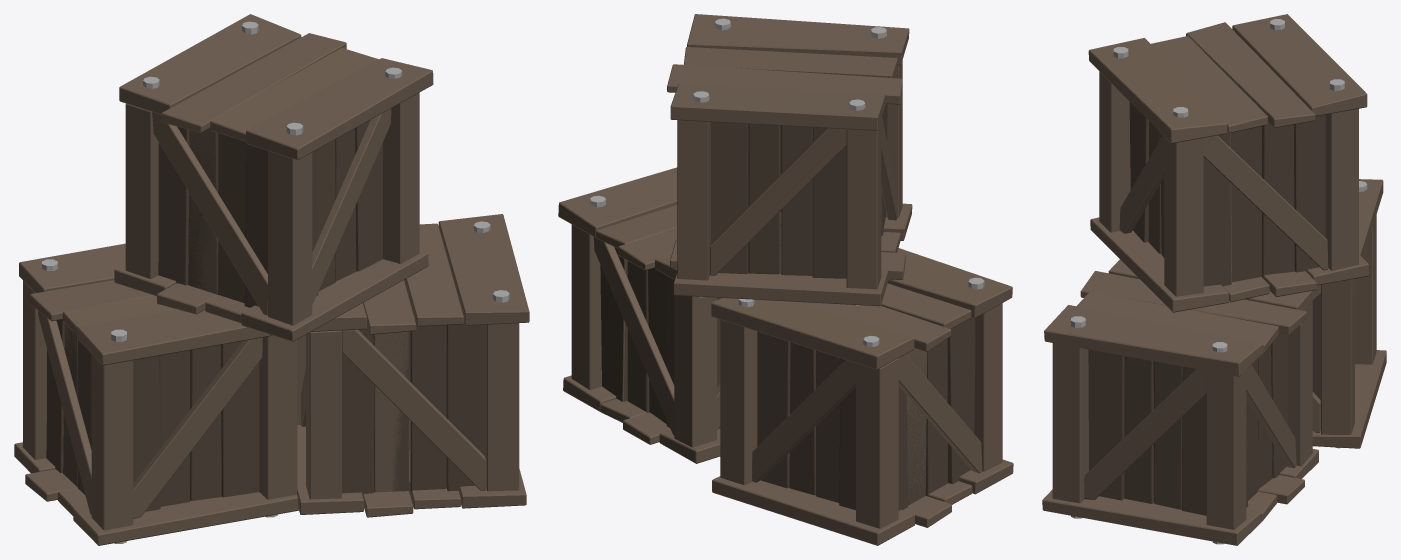
3 views of the same model, side by side, from view 1: azimuth 30°, elevation 25°; view 2: azimuth 150°, elevation 25°; view 3: azimuth 270°, elevation 25° (orthographic). The views are drawn at different scales.
Visible parts, largest first — view 1: Cube.003, Cube.002, Cube.001; view 2: Cube.002, Cube.003, Cube.001; view 3: Cube.003, Cube.001, Cube.002.
Boxes of the visible parts, x1,y1,x2,y2 form: Cube.003: (114, 14, 433, 341); Cube.002: (14, 243, 298, 545); Cube.001: (297, 214, 529, 517); Cube.002: (711, 248, 1013, 545); Cube.003: (667, 14, 912, 306); Cube.001: (558, 167, 721, 463); Cube.003: (1088, 14, 1368, 312); Cube.001: (1042, 259, 1320, 545); Cube.002: (1312, 179, 1386, 448).
Size of the model in its own units: 5.43 by 4.81 by 3.91.
